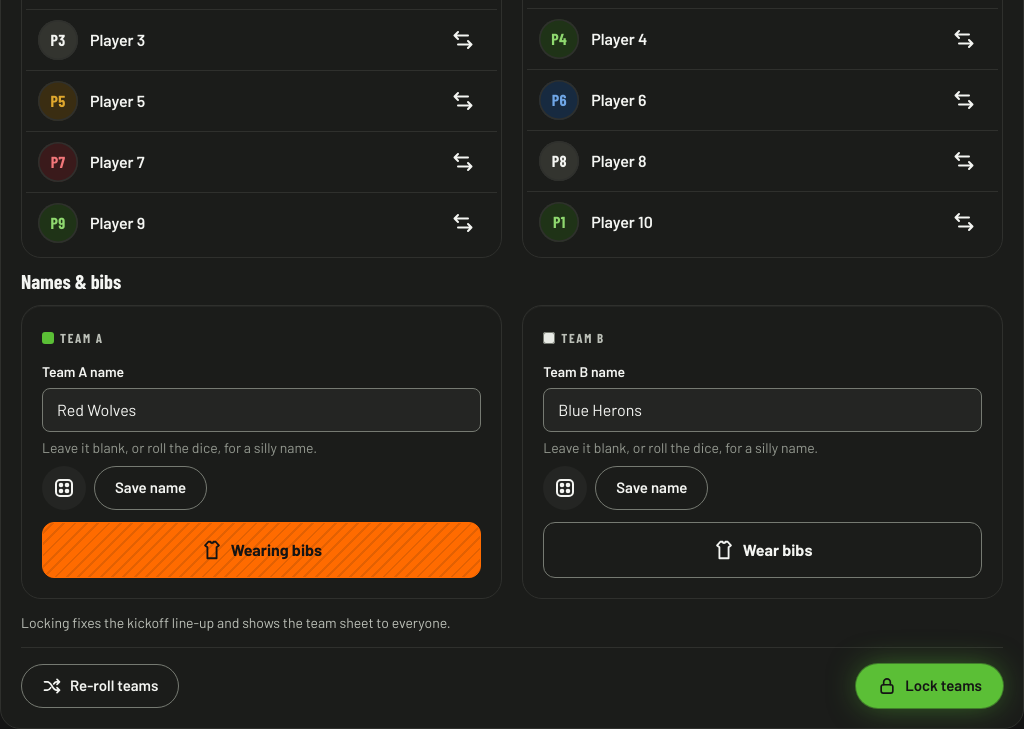
it: TeamsEditor with teams › does not tell the screen about a refused lock
(page scrolled)
Click the button "Lock teams": (930,686) [856,664,1003,708]
(page scrolled)
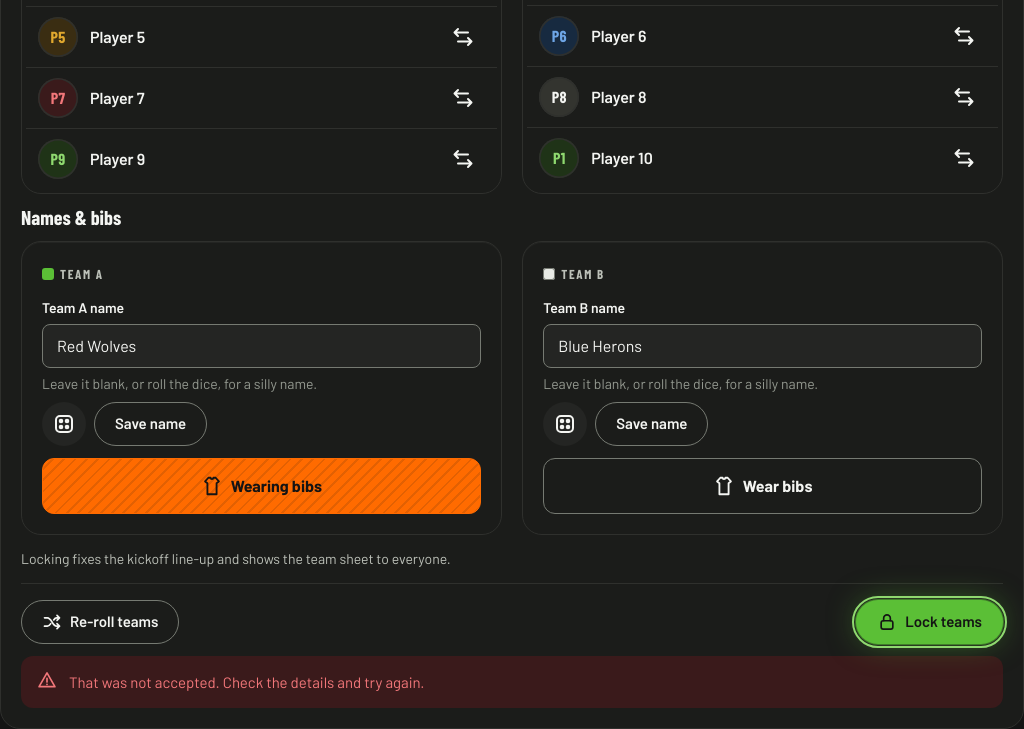
Expected: the message "That was not accepted. Check the details and try again." is shown, [21,656,1003,708]
